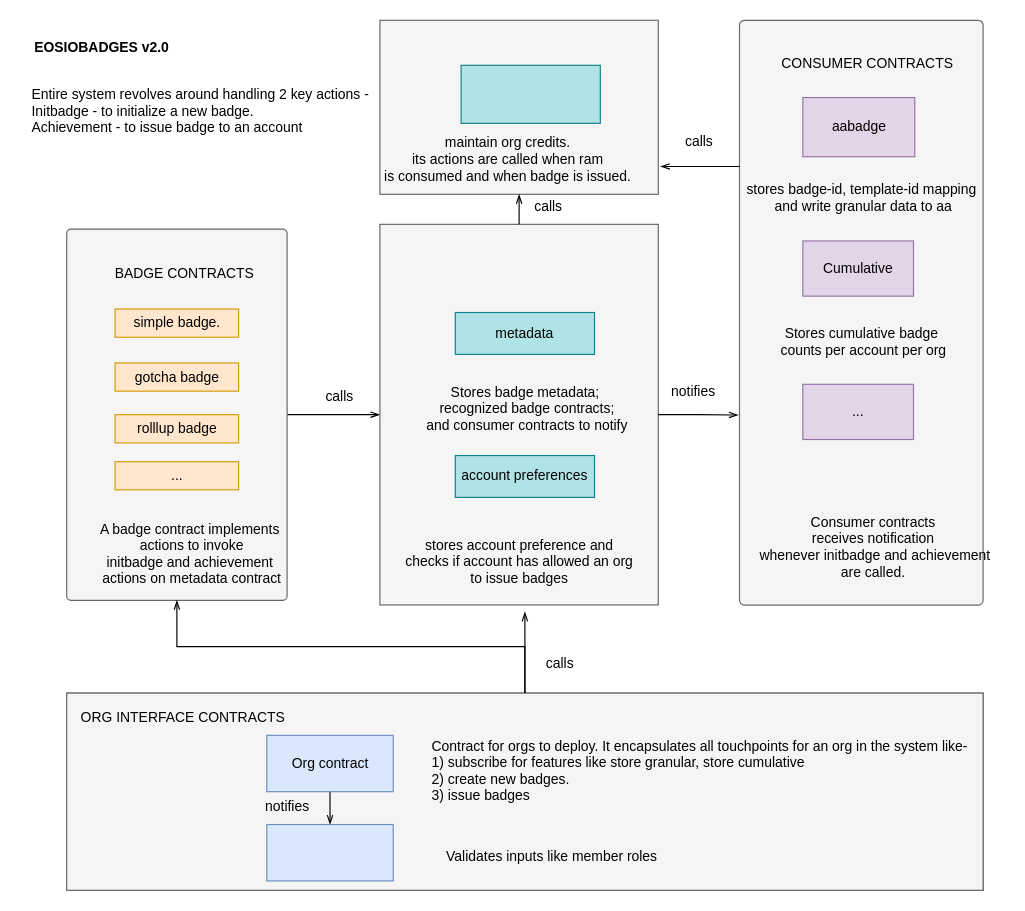
Some shapes in this 1025 by 911 pixel diagram are drawn without their labels. Each missing label, with the box of its shape:
billing: (460, 64, 600, 123)
Org roles.: (266, 823, 393, 881)
